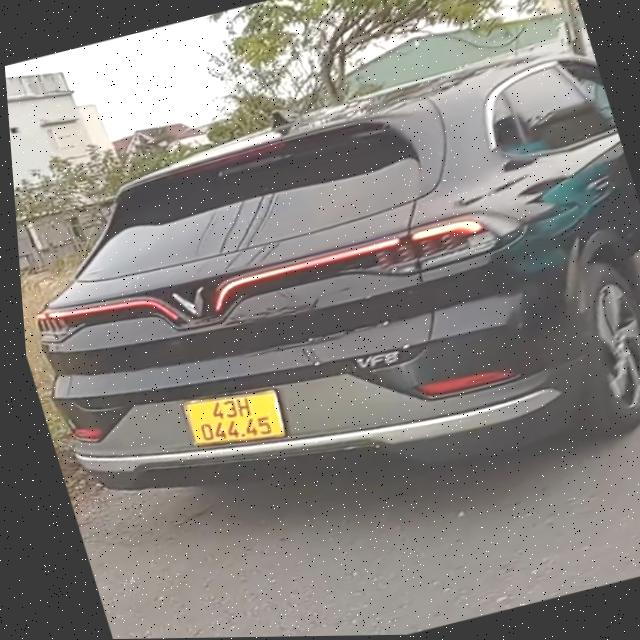car: (3, 30, 640, 559)
plate: (172, 374, 298, 463)
